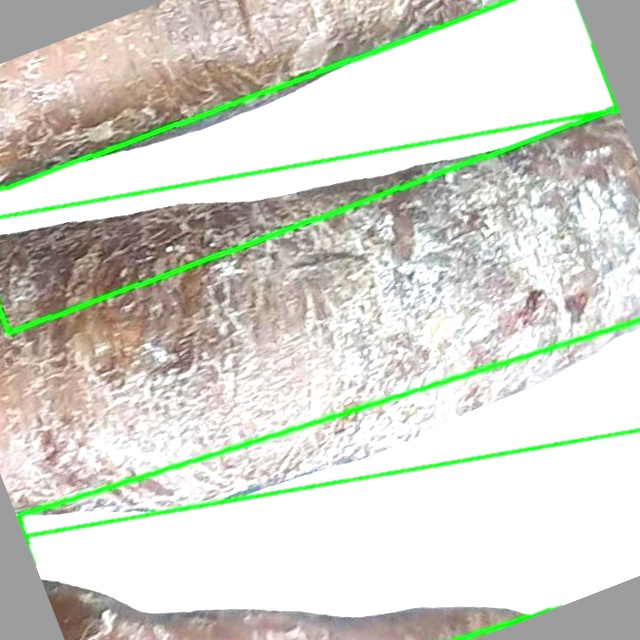Eczema: (0, 116, 639, 530), (0, 0, 616, 332), (17, 320, 639, 639)
